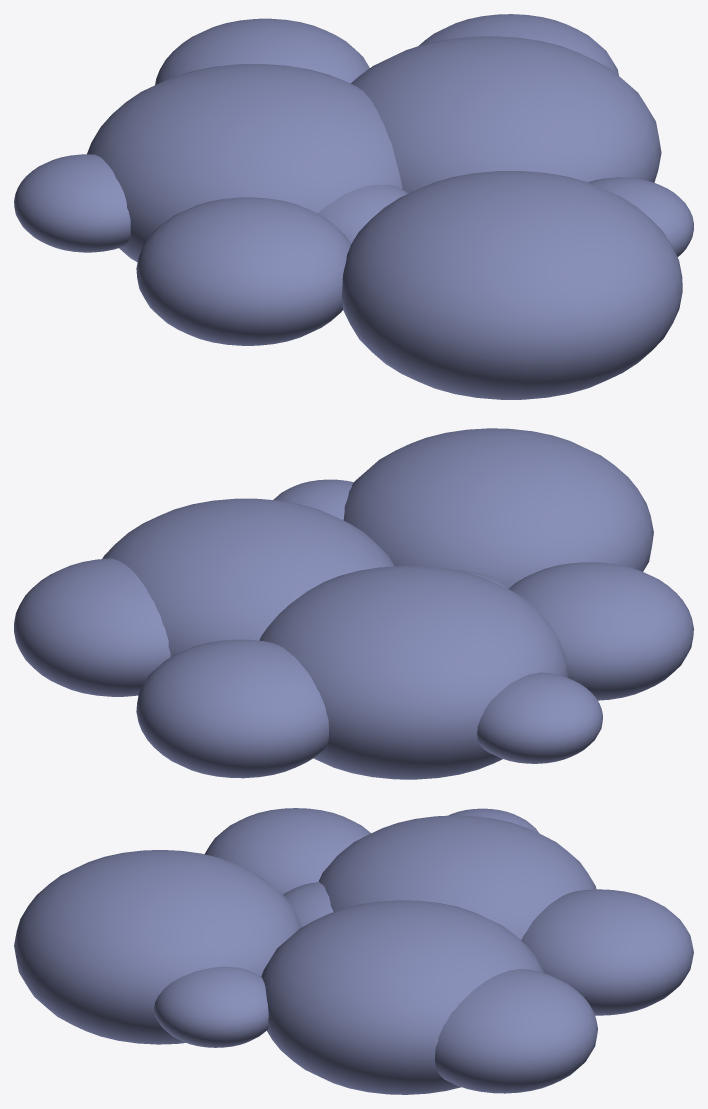
The model's file is SnowyMound.FBX.
The picture shows the model from 3 angles, top to bottom: view 1: azimuth 30°, elevation 25°; view 2: azimuth 150°, elevation 25°; view 3: azimuth 270°, elevation 25°; orthographic projection. The views are drawn at different scales.
Visible parts, largest first — view 1: Sphere001, Sphere004, Sphere007, Sphere005, Sphere006, Sphere002, Sphere008, Sphere003, Sphere009; view 2: Sphere004, Sphere001, Sphere007, Sphere002, Sphere005, Sphere008, Sphere006, Sphere003; view 3: Sphere001, Sphere007, Sphere004, Sphere008, Sphere002, Sphere005, Sphere003, Sphere009, Sphere006.
Boxes of the visible parts, box(x1,y1,x2,y2) form: Sphere001: box(341, 171, 682, 399); Sphere004: box(87, 64, 402, 262); Sphere007: box(351, 36, 661, 193); Sphere005: box(136, 197, 350, 345); Sphere006: box(14, 154, 130, 252); Sphere002: box(155, 18, 369, 84); Sphere008: box(419, 14, 618, 75); Sphere003: box(588, 177, 693, 256); Sphere009: box(318, 184, 408, 244); Sphere004: box(259, 566, 568, 779); Sphere001: box(343, 428, 653, 587); Sphere007: box(102, 498, 394, 656); Sphere002: box(136, 639, 329, 778); Sphere005: box(508, 562, 693, 700); Sphere008: box(14, 558, 170, 696); Sphere006: box(477, 672, 602, 763); Sphere003: box(273, 479, 353, 520); Sphere001: box(14, 850, 301, 1044); Sphere007: box(261, 900, 544, 1094); Sphere004: box(318, 815, 596, 939); Sphere008: box(435, 968, 597, 1093); Sphere002: box(521, 889, 693, 1015); Sphere005: box(205, 808, 370, 894); Sphere003: box(154, 966, 268, 1047); Sphere009: box(283, 882, 333, 926); Sphere006: box(448, 808, 539, 833).
Bounding box in the file's own units: 157 × 45.07 × 183.
